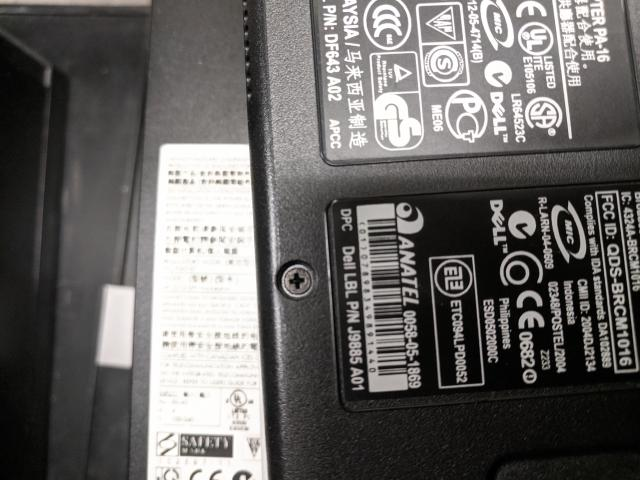CRS: (283, 266, 313, 300)
